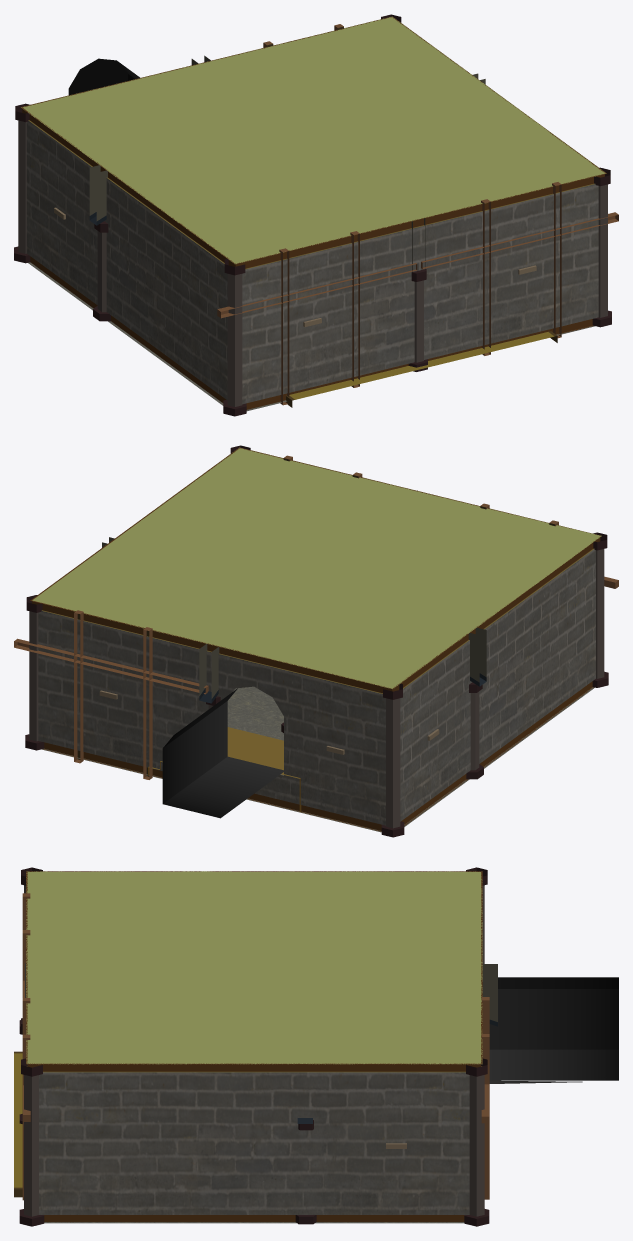
The model's file is Dungeon.fbx.
3 views of the same model, one above another, from view 1: azimuth 30°, elevation 25°; view 2: azimuth 150°, elevation 25°; view 3: azimuth 270°, elevation 25° (orthographic). The views are drawn at different scales.
Visible parts, largest first — view 1: Dungeon; view 2: Dungeon; view 3: Dungeon.
Part boxes in pixels (x1,y1,x2,y2): Dungeon: (14,14,618,416); Dungeon: (14,445,618,837); Dungeon: (14,867,618,1226).
Bounding box in the file's own units: 12.85 × 4.71 × 15.79.
